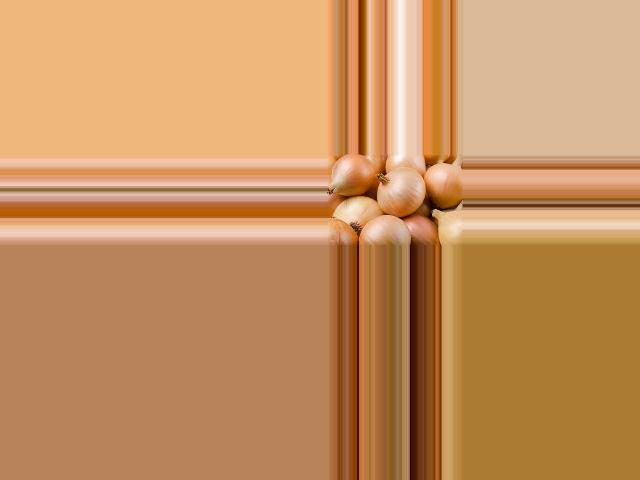onion: (382, 155, 426, 177)
